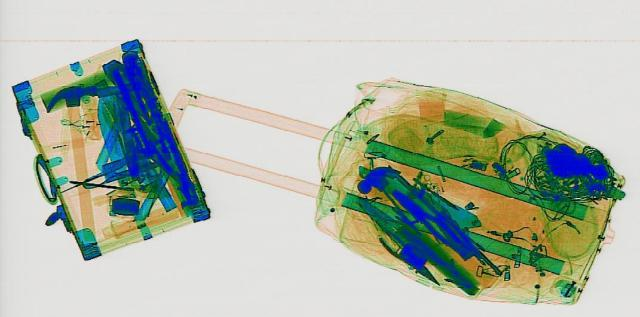Pliers: (373, 233, 447, 286)
